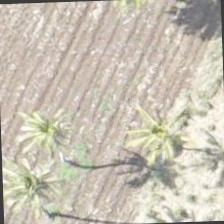Kelapa_Sawit: (16, 74, 109, 167), (118, 98, 210, 190), (1, 144, 90, 223)
